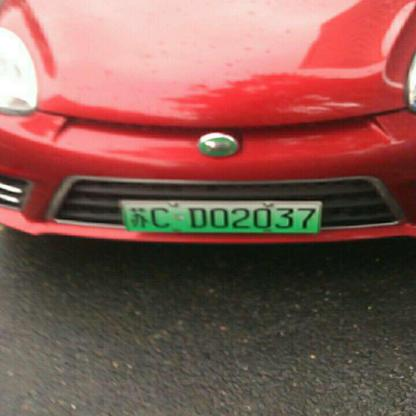lp: (119, 202, 319, 232)
